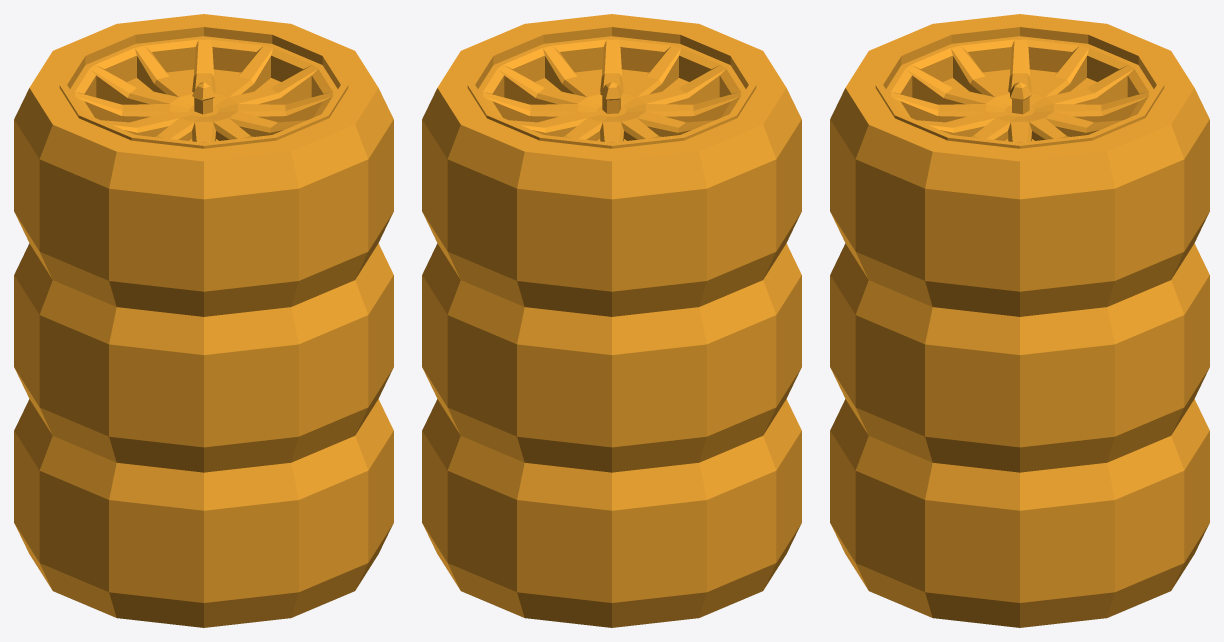
Rendered from SM_Wheel_Stack_LemansPrototype.fbx.
The picture shows the model from 3 angles, left to right: view 1: azimuth 30°, elevation 25°; view 2: azimuth 150°, elevation 25°; view 3: azimuth 270°, elevation 25°; orthographic projection.
Parts seen in each view (by area): view 1: SM_Wheel_Stack_LemansPrototype; view 2: SM_Wheel_Stack_LemansPrototype; view 3: SM_Wheel_Stack_LemansPrototype.
Boxes of the visible parts, bbox=[...] form: SM_Wheel_Stack_LemansPrototype: bbox=[14, 14, 393, 627]; SM_Wheel_Stack_LemansPrototype: bbox=[422, 14, 801, 627]; SM_Wheel_Stack_LemansPrototype: bbox=[830, 14, 1209, 627].
Bounding box in the file's own units: 0.8307 × 1.14 × 0.8307.
